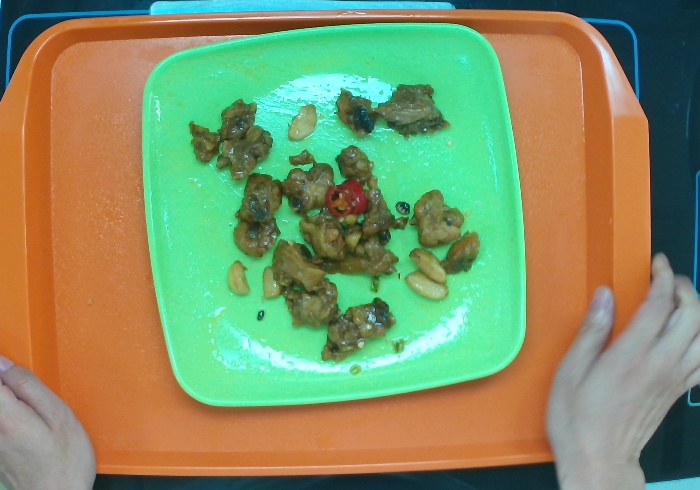ZNLD-Lv_Fang_Pan: (137, 15, 537, 414)
